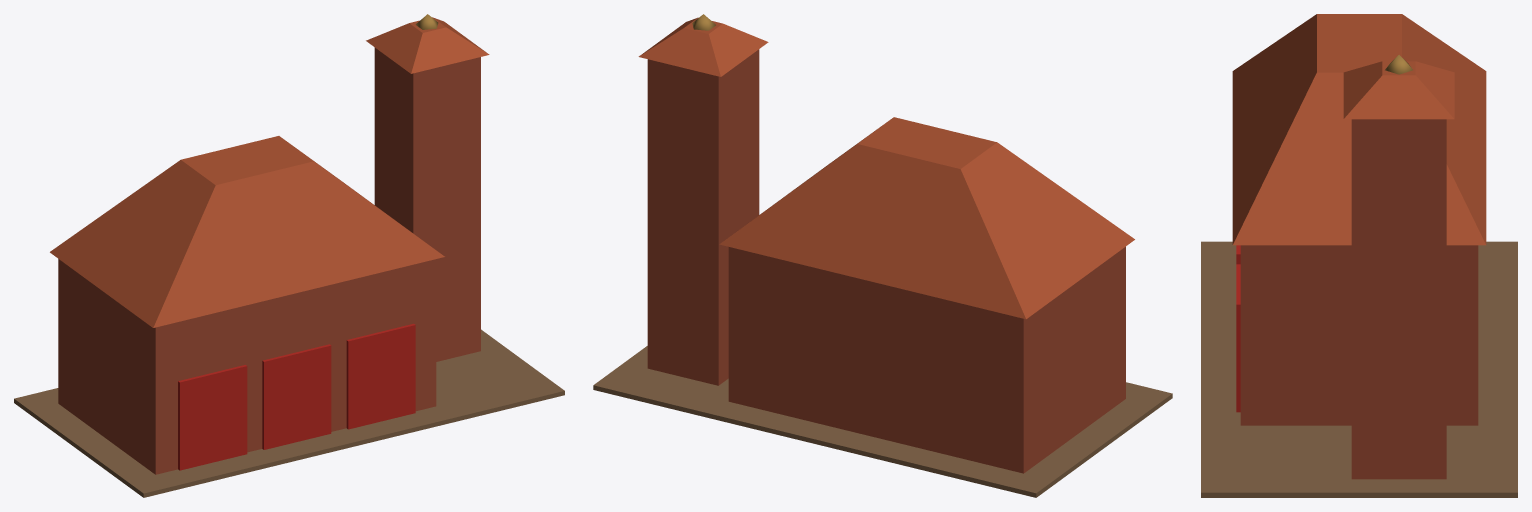
The model's file is bld_special_fire_station_a04_lod2.glb.
The picture shows the model from 3 angles, left to right: view 1: azimuth 30°, elevation 25°; view 2: azimuth 150°, elevation 25°; view 3: azimuth 270°, elevation 25°; orthographic projection. The views are drawn at different scales.
Parts seen in each view (by area): view 1: body; view 2: body; view 3: body.
Boxes of the visible parts, x1,y1,x2,y2 form: body: (14, 14, 564, 497); body: (593, 14, 1172, 497); body: (1201, 14, 1517, 497).
Size of the model in its own units: 15 by 11.42 by 8.
